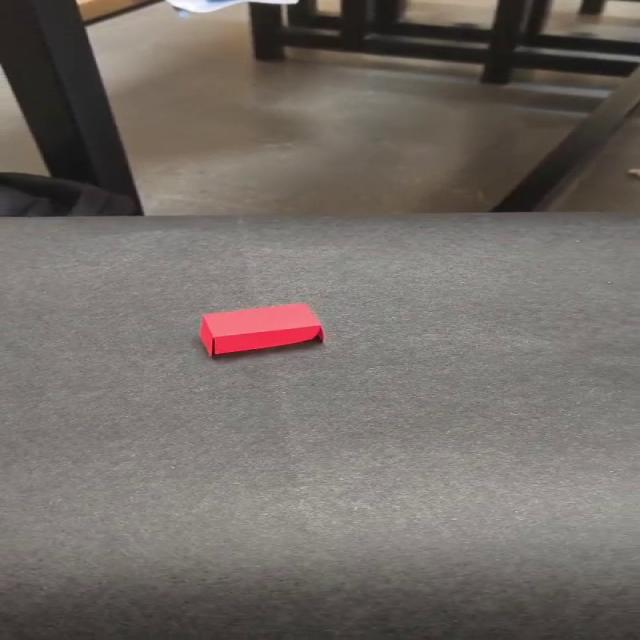red block: (198, 302, 326, 357)
